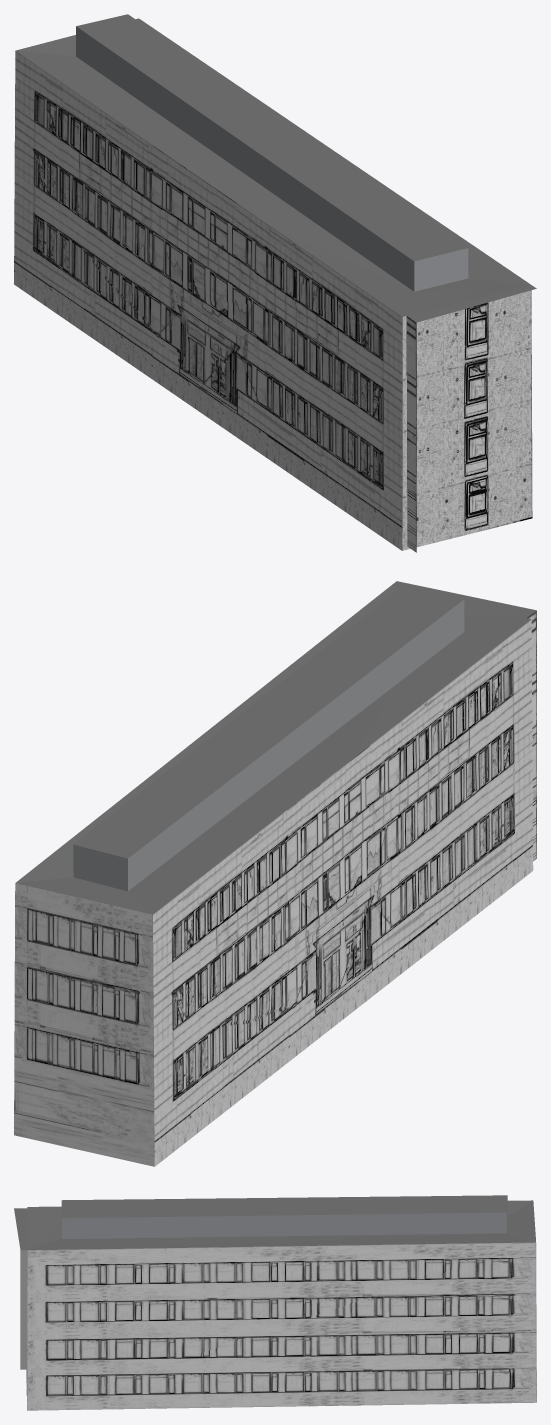
Rendered from Walther-Hempel-Bau.gltf.
3 renders of one model, top to bottom at view 1: azimuth 30°, elevation 25°; view 2: azimuth 150°, elevation 25°; view 3: azimuth 270°, elevation 25°, orthographic. The views are drawn at different scales.
Parts seen in each view (by area): view 1: Dach.1; view 2: Dach.1; view 3: Dach.1.
Boxes of the visible parts, <box> form: Dach.1: <box>14,14,536,552</box>; Dach.1: <box>14,581,536,1166</box>; Dach.1: <box>14,1195,536,1410</box>.
Size of the model in its own units: 17.16 by 28.7 by 75.65.
8 materials, 5 textured.
